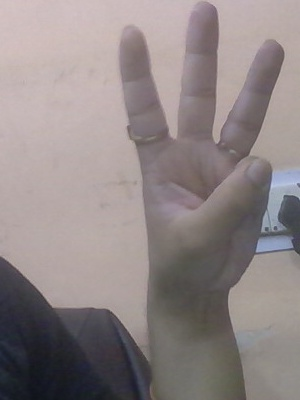W: (112, 1, 286, 310)
